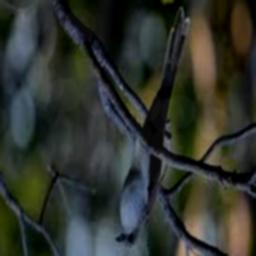Cuckoo: (114, 8, 190, 249)
